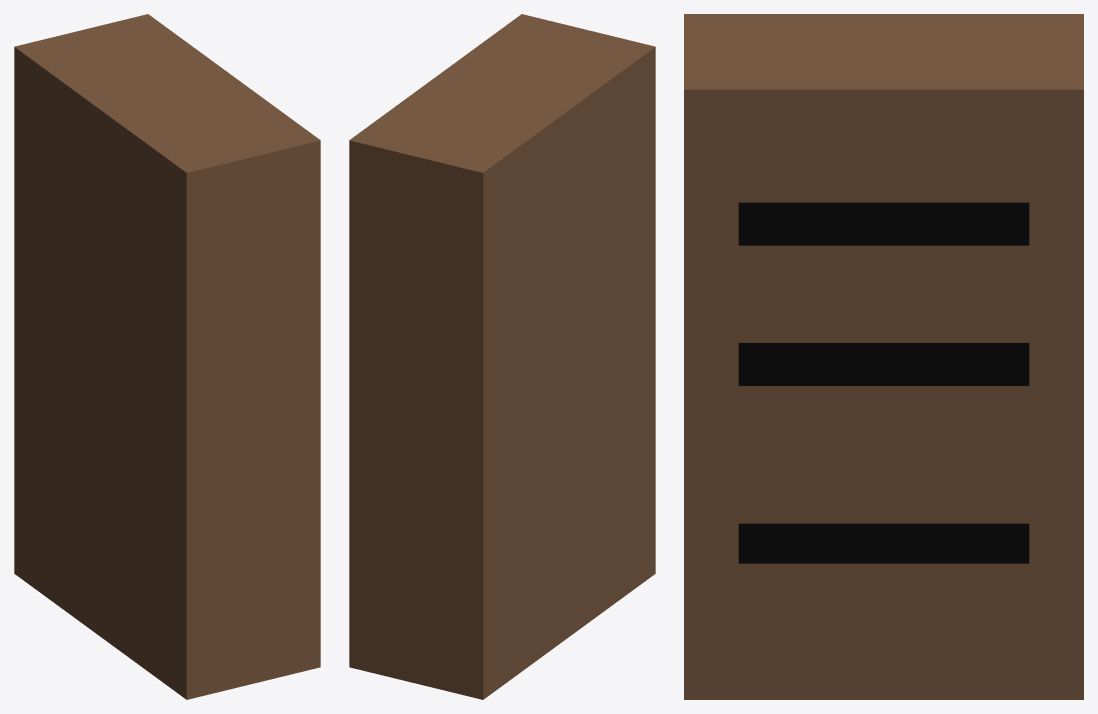
File: rak.glb
The picture shows the model from 3 angles, left to right: view 1: azimuth 30°, elevation 25°; view 2: azimuth 150°, elevation 25°; view 3: azimuth 270°, elevation 25°; orthographic projection. The views are drawn at different scales.
Visible parts, largest first — view 1: Cube; view 2: Cube; view 3: Cube.
Boxes of the visible parts, x1,y1,x2,y2 form: Cube: [14, 14, 320, 699]; Cube: [349, 14, 655, 699]; Cube: [684, 14, 1083, 699].
Bounding box in the file's own units: 2.03 × 7.31 × 4.34.
